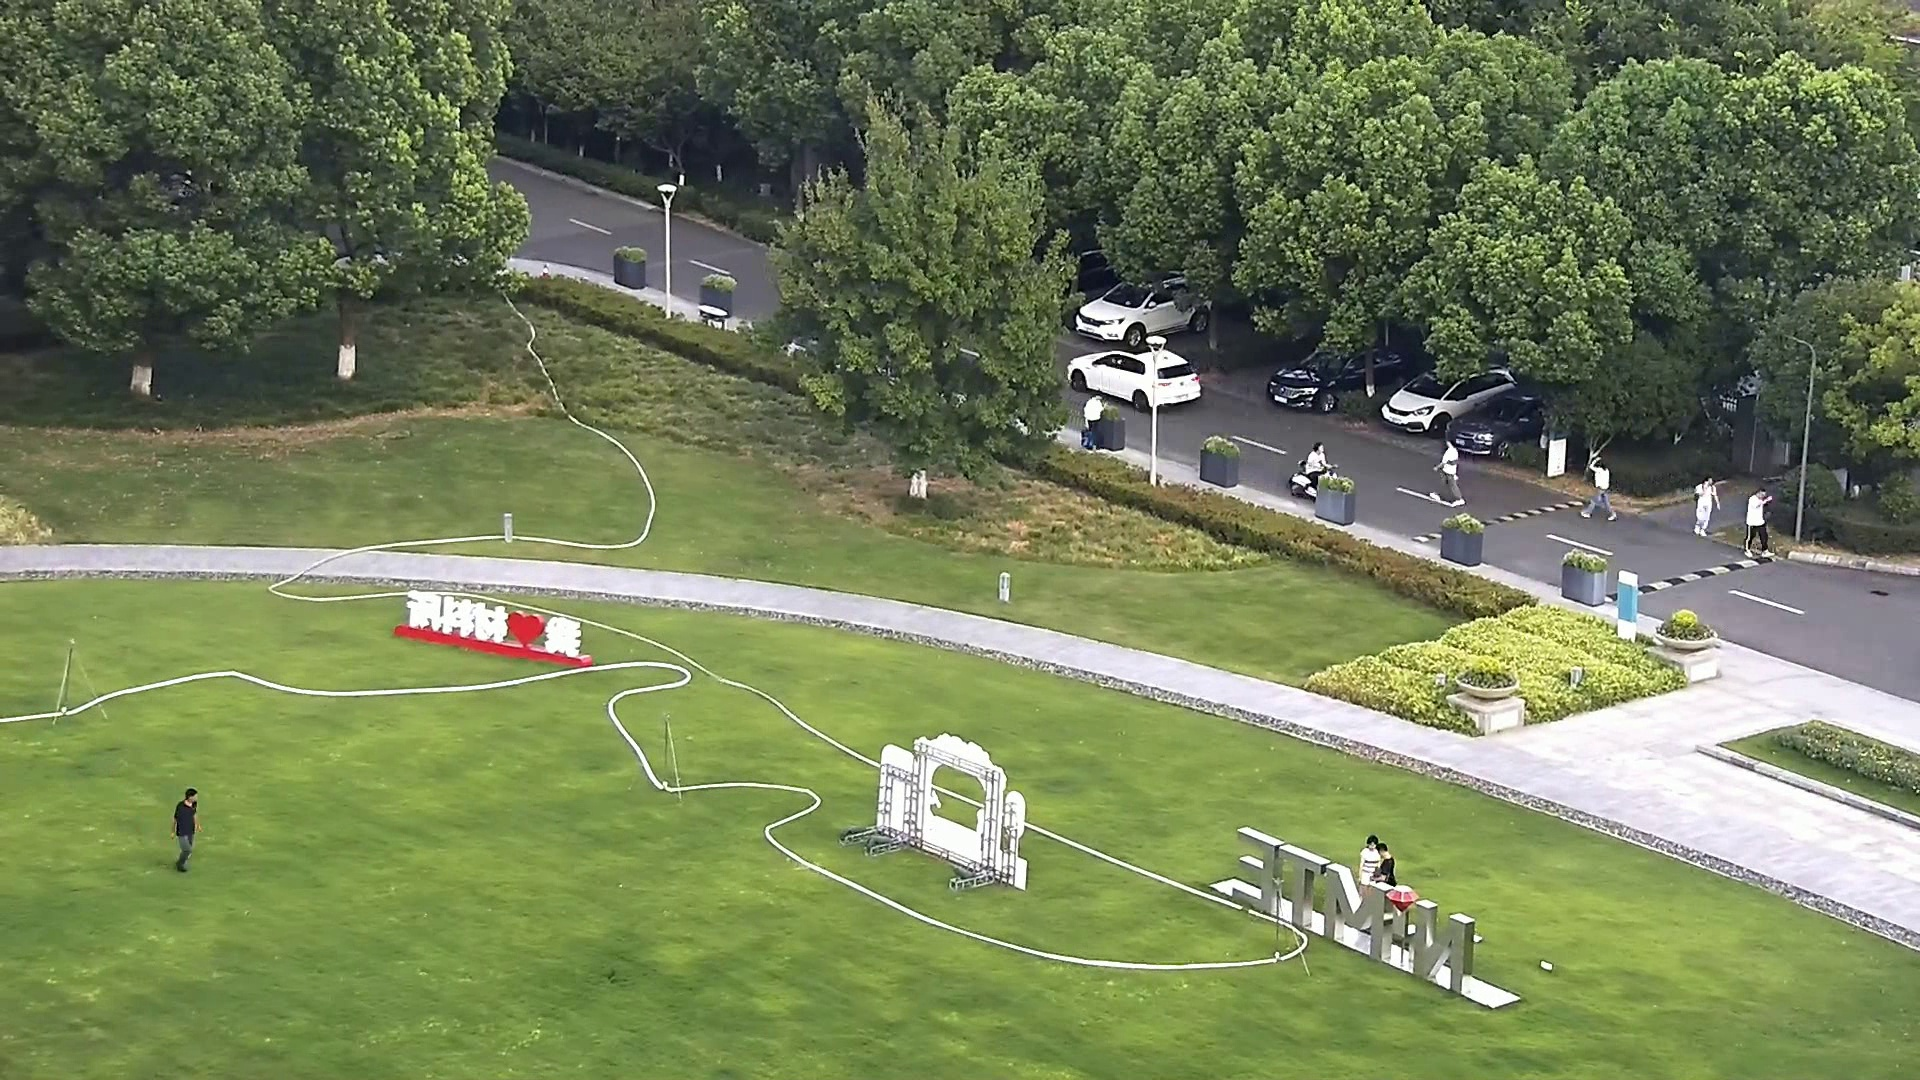person: (169, 786, 200, 872), (1578, 457, 1619, 521), (1430, 438, 1466, 507), (1743, 486, 1774, 555), (1692, 475, 1721, 536), (1303, 441, 1333, 496), (1080, 393, 1106, 449), (1358, 834, 1381, 885), (1373, 841, 1397, 887)
